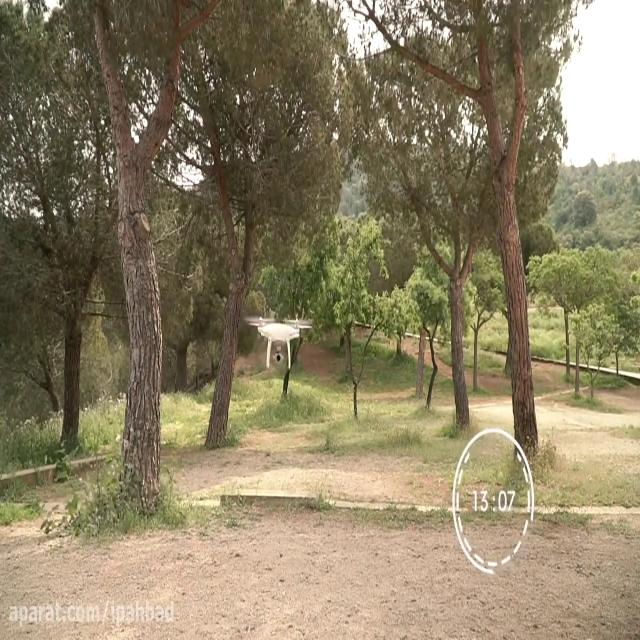drone: (243, 312, 314, 370)
